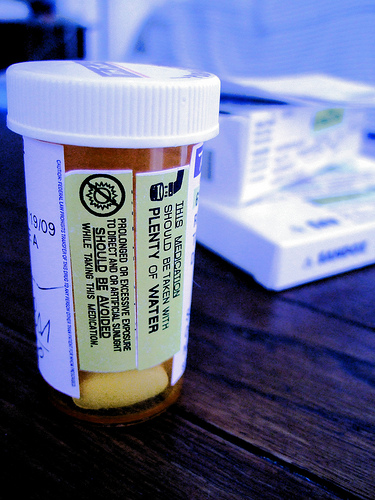pill bottle: (5, 56, 222, 424)
